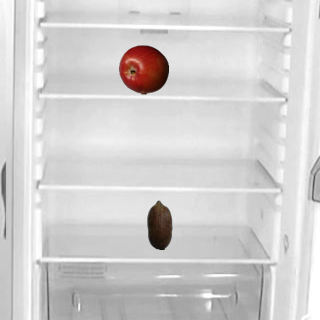Apple Braeburn: (118, 44, 168, 94)
Nut Pecan: (134, 199, 184, 249)
